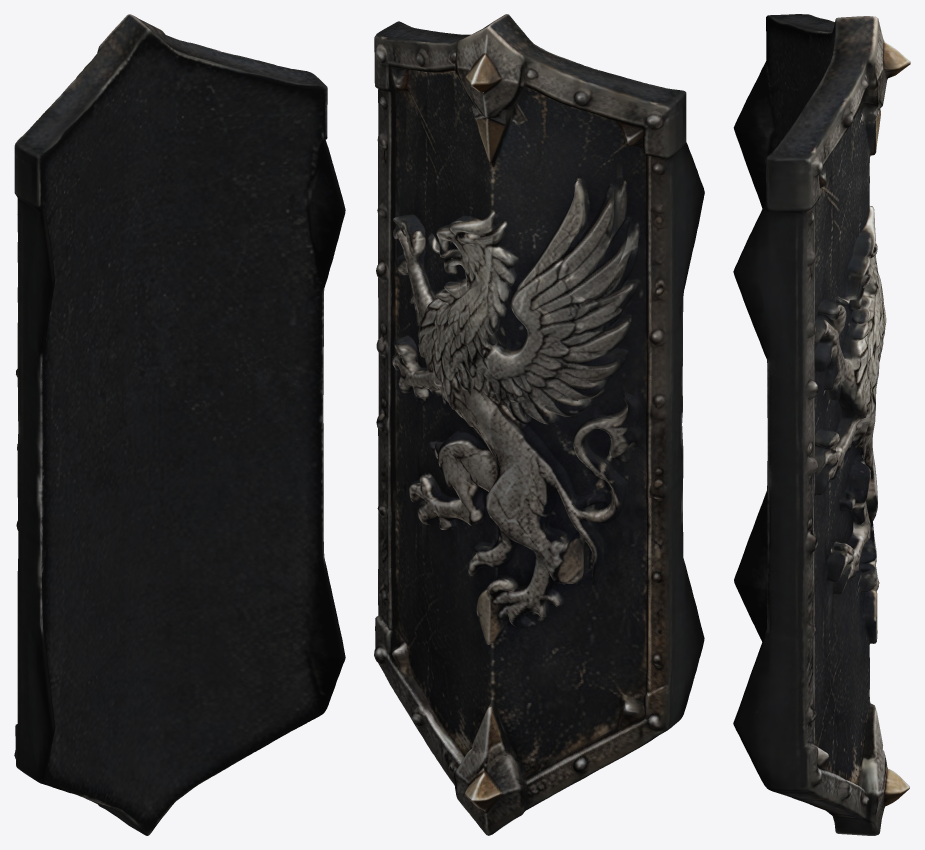
The model's file is tower_white_griffin.glb.
3 views of the same model, side by side, from view 1: azimuth 30°, elevation 25°; view 2: azimuth 150°, elevation 25°; view 3: azimuth 270°, elevation 25° (orthographic).
Visible parts, largest first — view 1: tower_white_griffin; view 2: tower_white_griffin; view 3: tower_white_griffin.
Boxes of the visible parts, <box> form: tower_white_griffin: <box>14,14,345,835</box>; tower_white_griffin: <box>374,14,704,835</box>; tower_white_griffin: <box>733,14,910,835</box>.
Bounding box in the file's own units: 0.4379 × 1.14 × 0.2243.
1 material, 1 textured.
